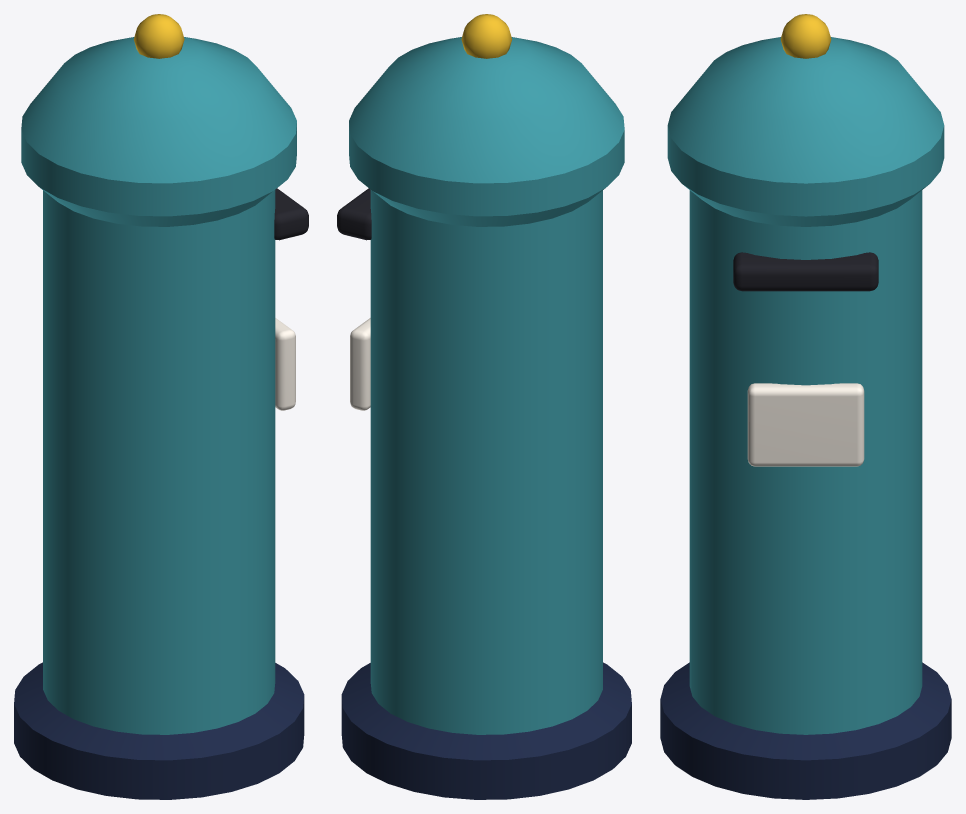
Rendered from mailbox.glb.
The picture shows the model from 3 angles, left to right: view 1: azimuth 30°, elevation 25°; view 2: azimuth 150°, elevation 25°; view 3: azimuth 270°, elevation 25°; orthographic projection.
Visible parts, largest first — view 1: mailbox; view 2: mailbox; view 3: mailbox.
Boxes of the visible parts, bbox=[...] form: mailbox: bbox=[14, 14, 308, 799]; mailbox: bbox=[337, 14, 631, 799]; mailbox: bbox=[660, 14, 951, 799].
Bounding box in the file's own units: 0.4 × 1.09 × 0.4.
1 material, 1 textured.
